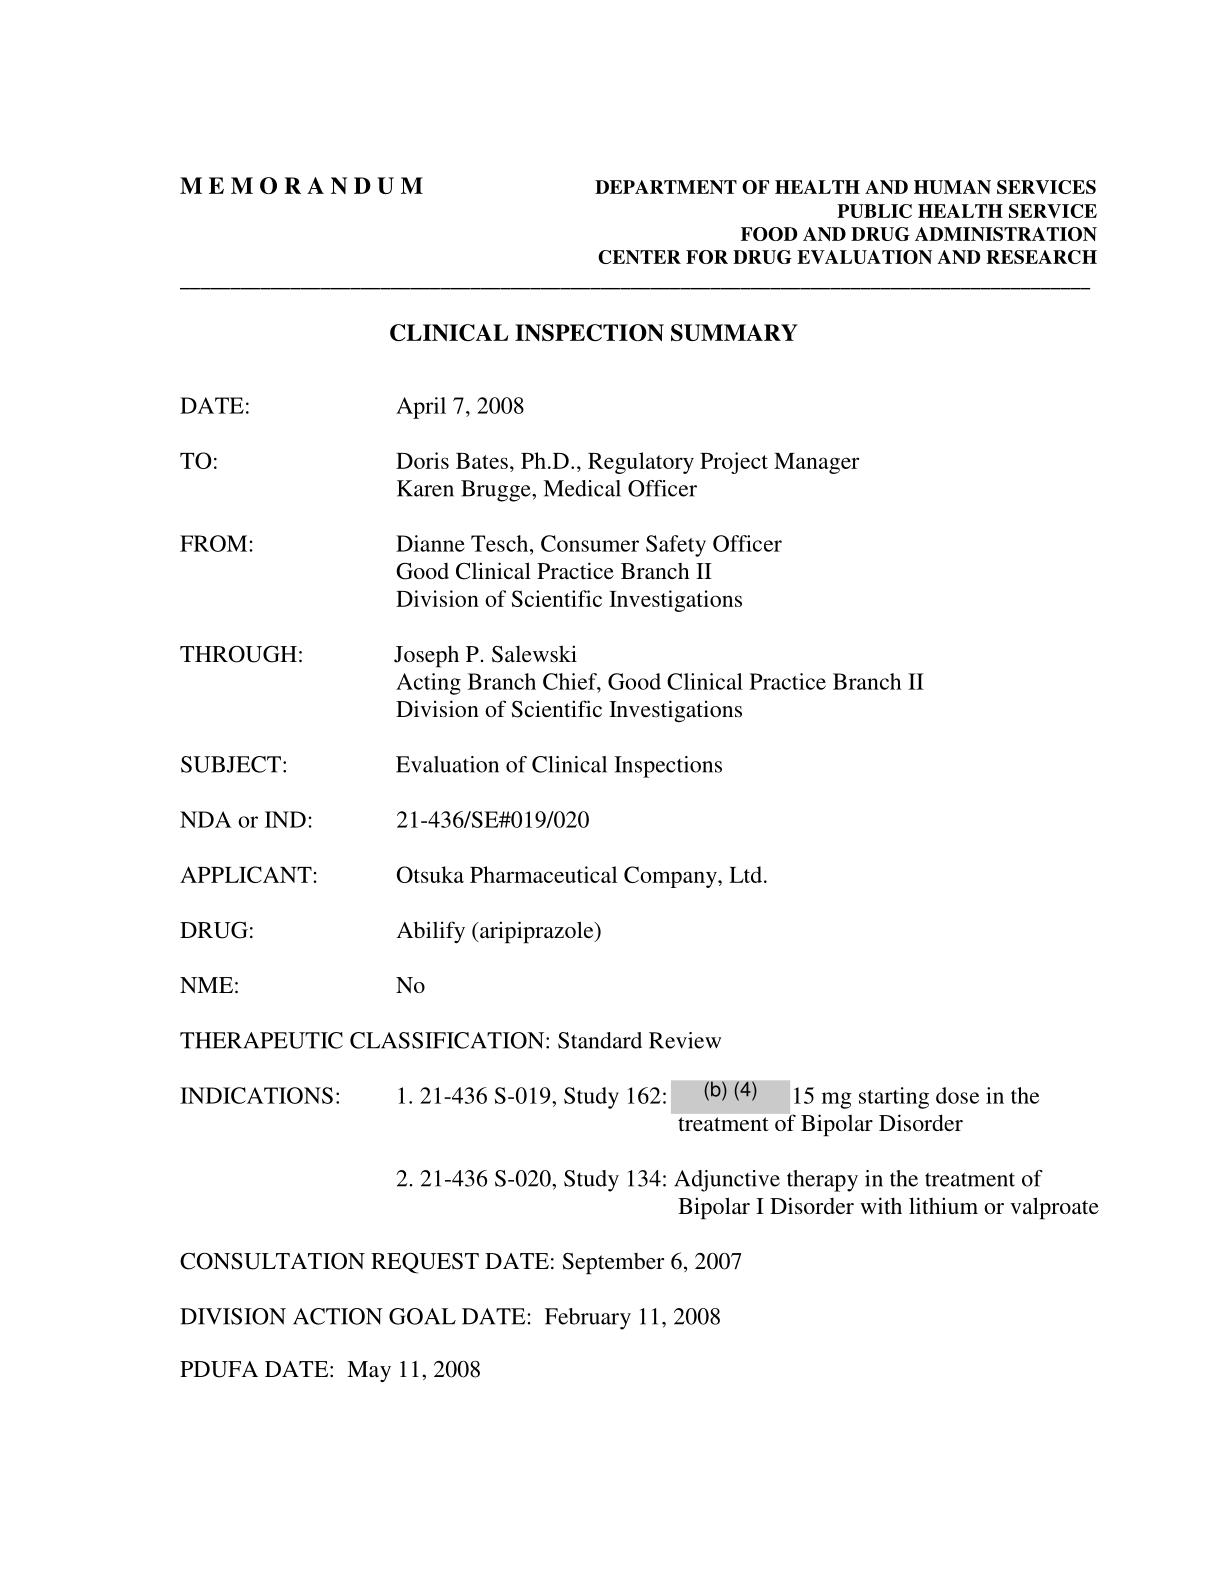nolines: (174, 383, 1103, 1383)
